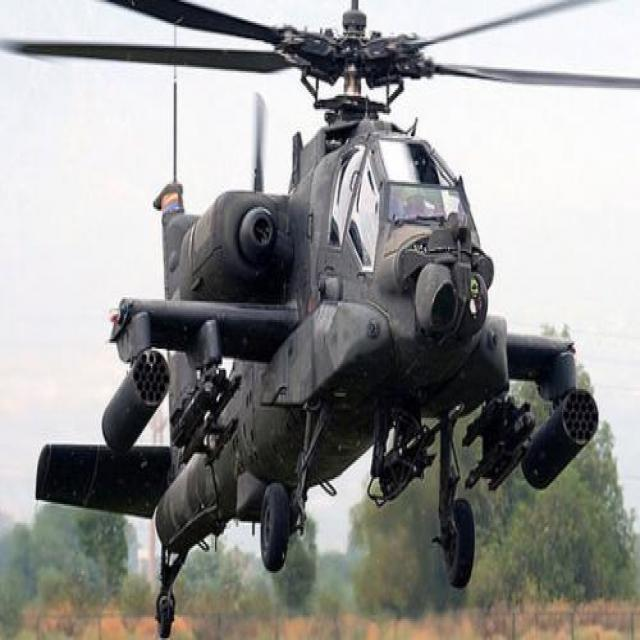MIL_HELO: (7, 7, 640, 640)
